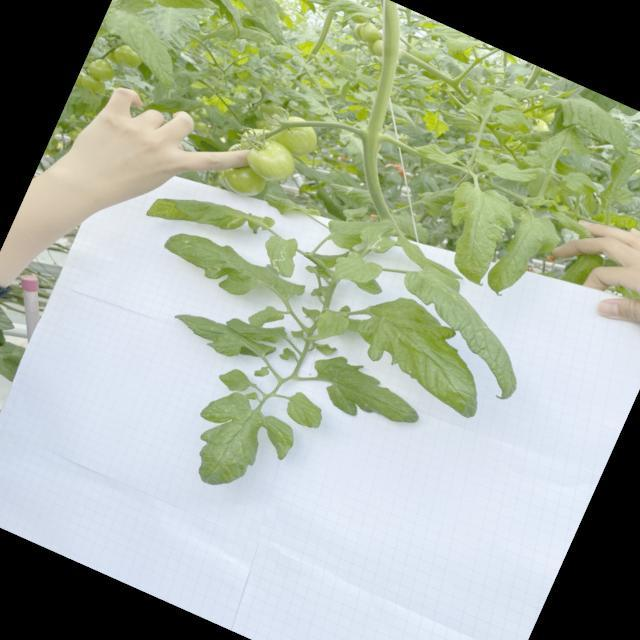Tomato healthy leaf: (549, 88, 640, 160), (486, 154, 538, 192), (558, 166, 606, 202), (411, 136, 460, 170)
Tomato target spot leaf: (374, 257, 548, 403), (341, 284, 508, 422), (174, 381, 305, 510), (156, 220, 310, 322), (145, 170, 276, 265), (300, 346, 429, 442), (422, 175, 524, 290), (88, 3, 196, 92), (481, 206, 568, 310), (168, 304, 280, 376), (151, 0, 313, 48), (321, 198, 395, 264), (326, 246, 386, 300), (222, 304, 288, 352), (255, 228, 307, 280), (304, 304, 351, 354), (139, 0, 224, 27), (282, 388, 330, 432), (356, 217, 402, 260), (324, 176, 374, 213), (213, 362, 255, 399), (246, 298, 286, 336)
